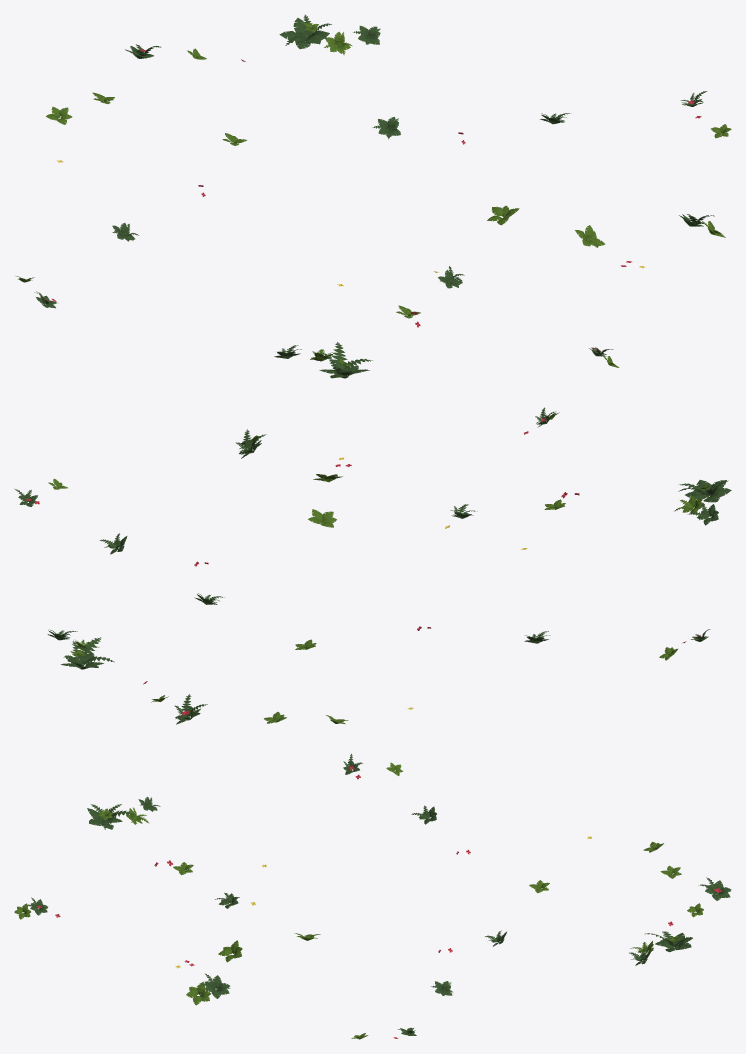
File: grass2-s1 1.fbx
The picture shows the model from 3 angles, top to bottom: view 1: azimuth 30°, elevation 25°; view 2: azimuth 150°, elevation 25°; view 3: azimuth 270°, elevation 25°; orthographic projection. The views are drawn at different scales.
Visible parts, largest first — view 1: Plane.027, Plane.109; view 2: Plane.027, Plane.109; view 3: Plane.109, Plane.027.
Part boxes in pixels (box(x1,y1,x2,y2)): Plane.027: box(279, 14, 331, 49); Plane.109: box(319, 342, 372, 378); Plane.027: box(60, 637, 114, 669); Plane.109: box(678, 480, 731, 502); Plane.109: box(87, 804, 133, 829); Plane.027: box(644, 931, 692, 952).
Size of the model in its own units: 140 by 5.51 by 151.
